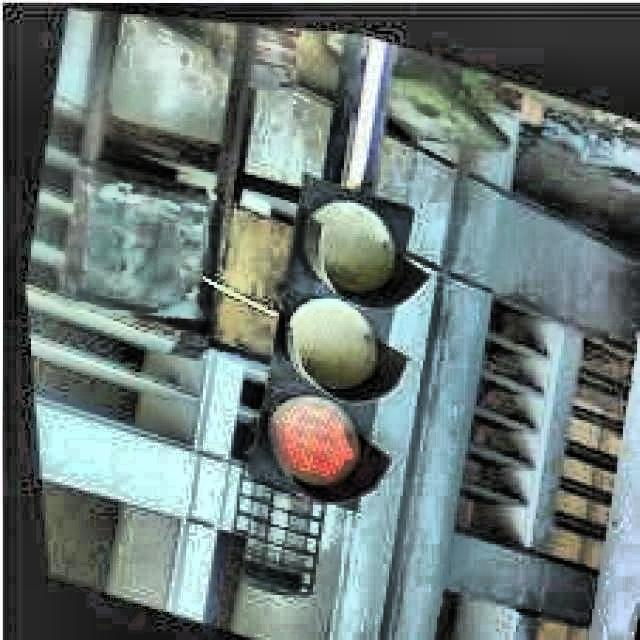red: (271, 171, 393, 497)
